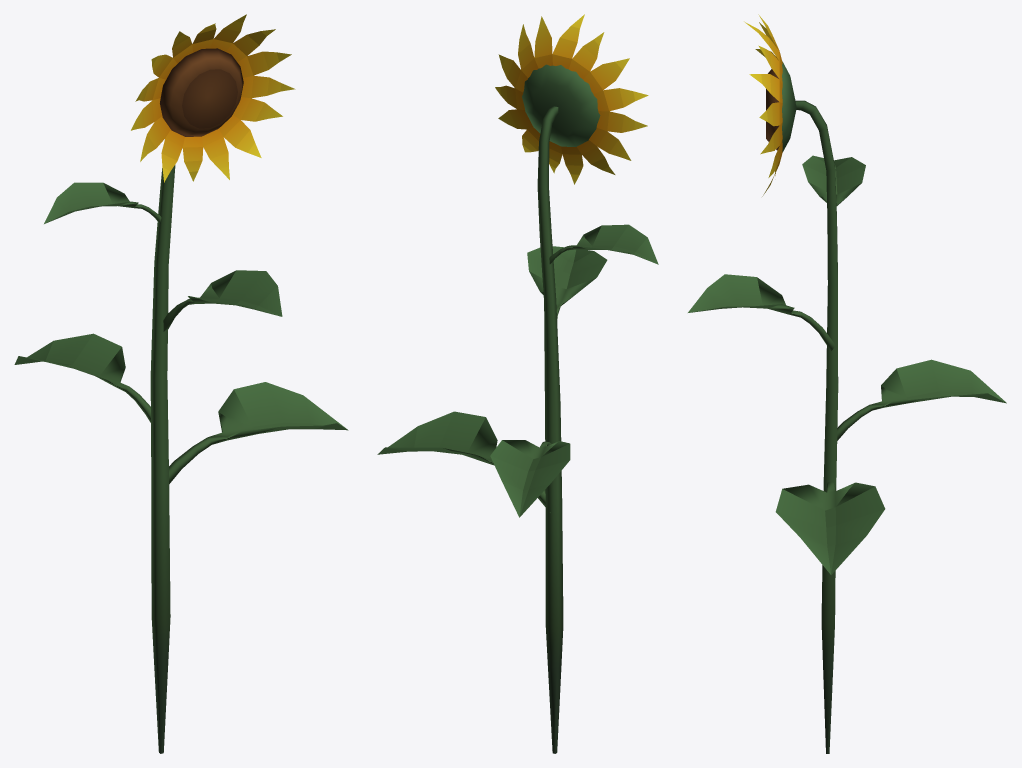
Rendered from plants-flowers-sunflower_v1.fbx.
The picture shows the model from 3 angles, left to right: view 1: azimuth 30°, elevation 25°; view 2: azimuth 150°, elevation 25°; view 3: azimuth 270°, elevation 25°; orthographic projection. The views are drawn at different scales.
Visible parts, largest first — view 1: Sunflower_v1; view 2: Sunflower_v1; view 3: Sunflower_v1.
Part boxes in pixels (x1,y1,x2,y2): Sunflower_v1: [14, 14, 348, 753]; Sunflower_v1: [377, 14, 658, 753]; Sunflower_v1: [688, 14, 1006, 753].
Bounding box in the file's own units: 0.8375 × 2 × 0.787.
